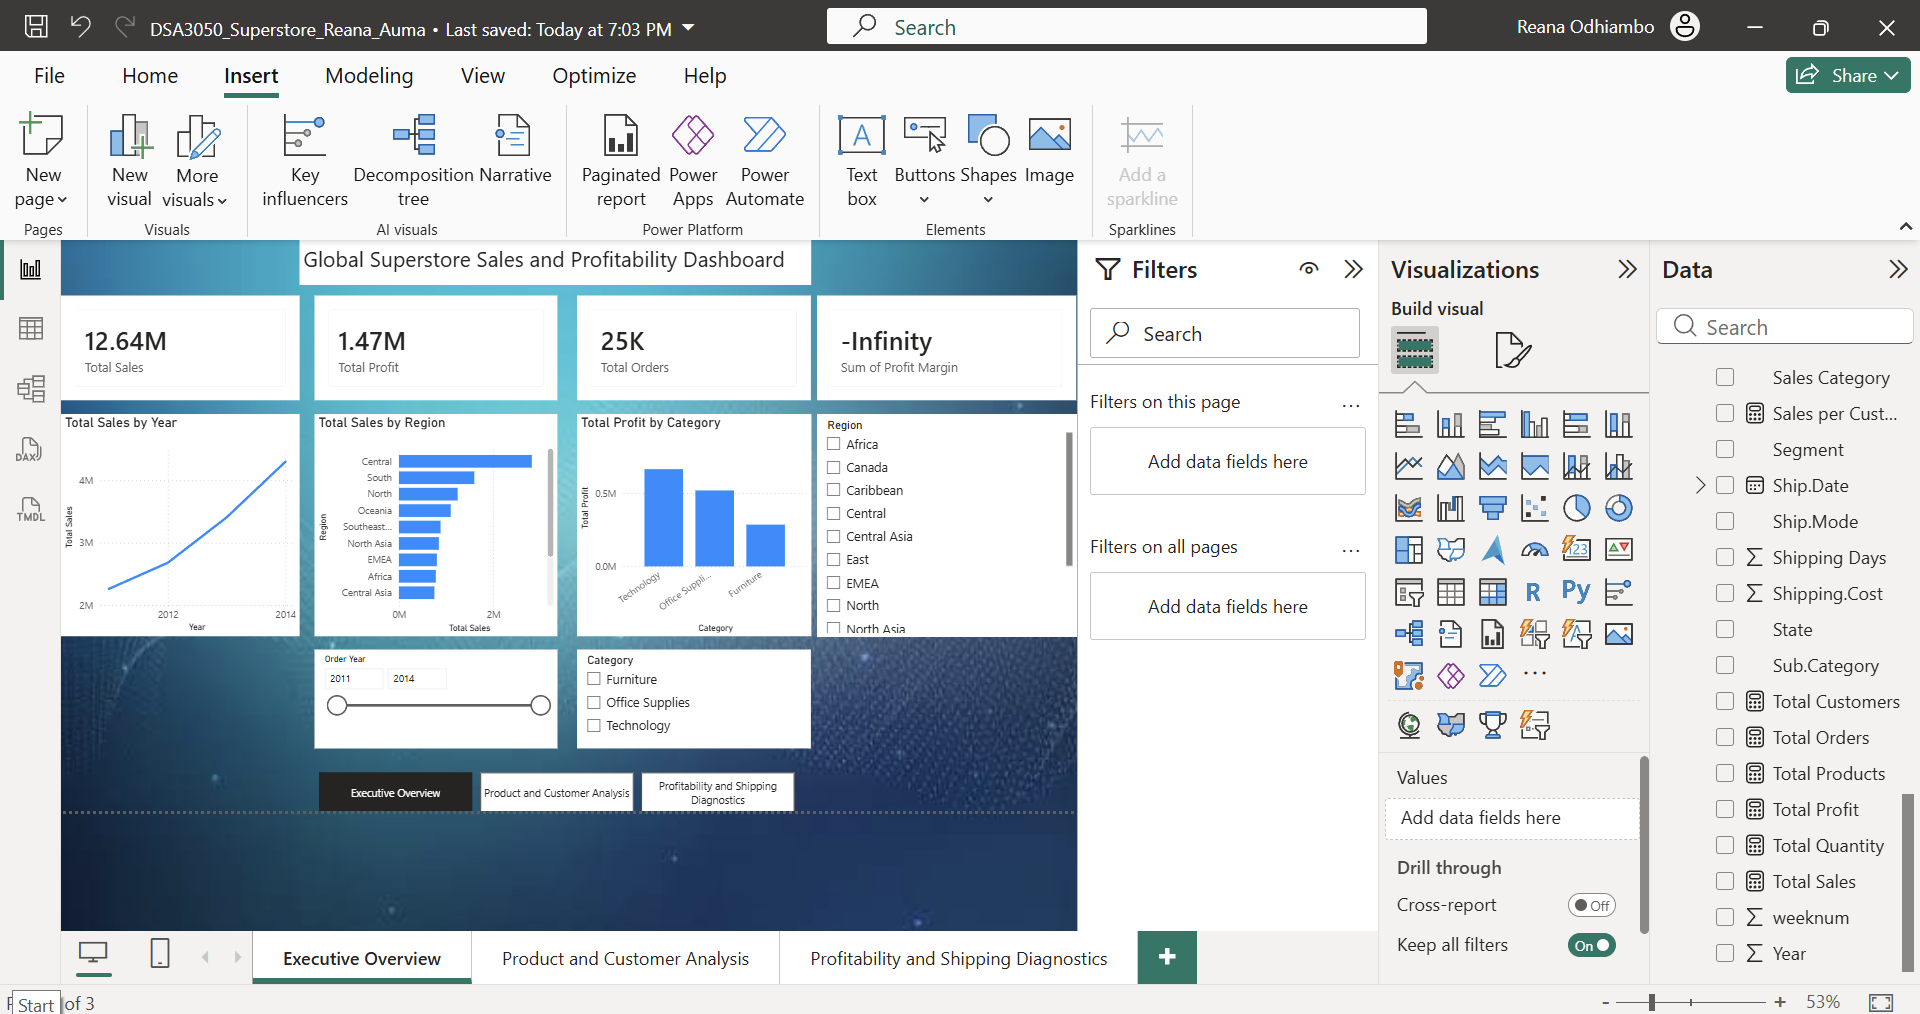

The dashboard page shown, as its layout file describes it:
{"tool":"powerbi","page":{"name":"Executive Overview","canvas":[1280,720],"ordinal":0},"visuals":[{"type":"textbox","box":[300.5,0,644.4,56.7],"z":0},{"type":"cardVisual","fields":{"Data":["FactSales.Total Sales"]},"box":[0,69.9,300.5,132.3],"z":1},{"type":"cardVisual","fields":{"Data":["FactSales.Total Profit"]},"box":[319.4,69.9,306.1,132.3],"z":2},{"type":"cardVisual","fields":{"Data":["Sum(FactSales.Profit Margin)"]},"box":[952.4,69.9,326.9,132.3],"z":3},{"type":"cardVisual","fields":{"Data":["FactSales.Total Orders"]},"box":[650.1,69.9,294.8,132.3],"z":4},{"type":"lineChart","fields":{"Category":["DimDate.Year"],"Y":["FactSales.Total Sales"]},"box":[0,219.2,300.5,279.7],"z":5},{"type":"barChart","fields":{"Category":["FactSales.Region"],"Y":["FactSales.Total Sales"]},"box":[319.4,219.2,306,280],"z":6},{"type":"clusteredColumnChart","fields":{"Category":["FactSales.Category"],"Y":["FactSales.Total Profit"]},"box":[650.1,219.2,295,280],"z":7},{"type":"slicer","fields":{"Values":["FactSales.Order Year"]},"box":[319.4,515.9,306.1,124.7],"z":8},{"type":"slicer","fields":{"Values":["FactSales.Region"]},"box":[952.4,219.2,326.9,279.7],"z":9},{"type":"slicer","fields":{"Values":["FactSales.Category"]},"box":[650.1,515.9,294.8,124.7],"z":10},{"type":"pageNavigator","box":[325,670.9,600,50],"z":11}]}

Visuals, with their boxes on the page's 1280x720 design canvas (x1, y1, x2, y2). These are canvas units, not pixel positions in the 1920x1014 screenshot, which may show the page scaled, cropped or inside an application window:
textbox: l=300, t=0, r=945, b=57
cardVisual - FactSales.Total Sales: l=0, t=70, r=300, b=202
cardVisual - FactSales.Total Profit: l=319, t=70, r=626, b=202
cardVisual - Sum(FactSales.Profit Margin): l=952, t=70, r=1279, b=202
cardVisual - FactSales.Total Orders: l=650, t=70, r=945, b=202
lineChart - DimDate.Year x FactSales.Total Sales: l=0, t=219, r=300, b=499
barChart - FactSales.Region x FactSales.Total Sales: l=319, t=219, r=625, b=499
clusteredColumnChart - FactSales.Category x FactSales.Total Profit: l=650, t=219, r=945, b=499
slicer - FactSales.Order Year: l=319, t=516, r=626, b=641
slicer - FactSales.Region: l=952, t=219, r=1279, b=499
slicer - FactSales.Category: l=650, t=516, r=945, b=641
pageNavigator: l=325, t=671, r=925, b=721
